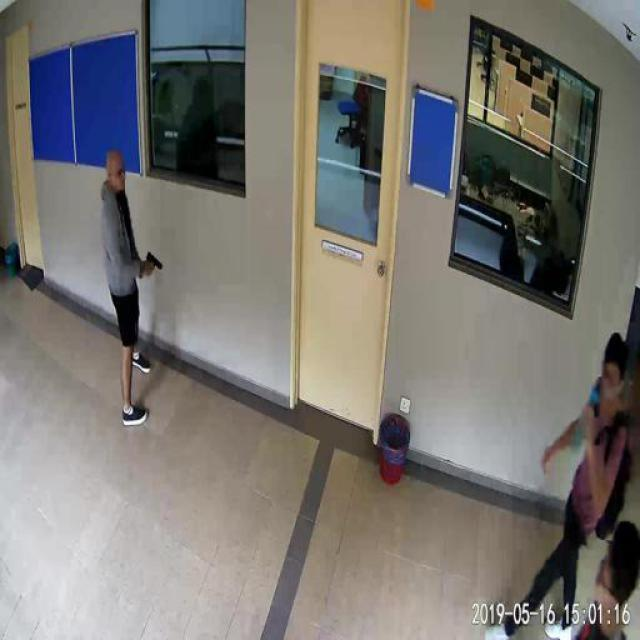weapon: (146, 251, 163, 270)
